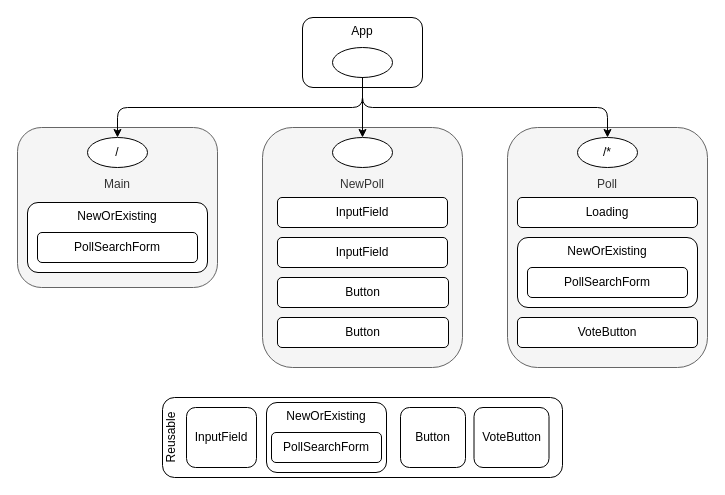
Some shapes in this 725 by 495 pixel diagram are drawn without their labels. The centre of each missing label's shape, as x and y in pixels:
/new: (362,152)
Routes: (362,62)
